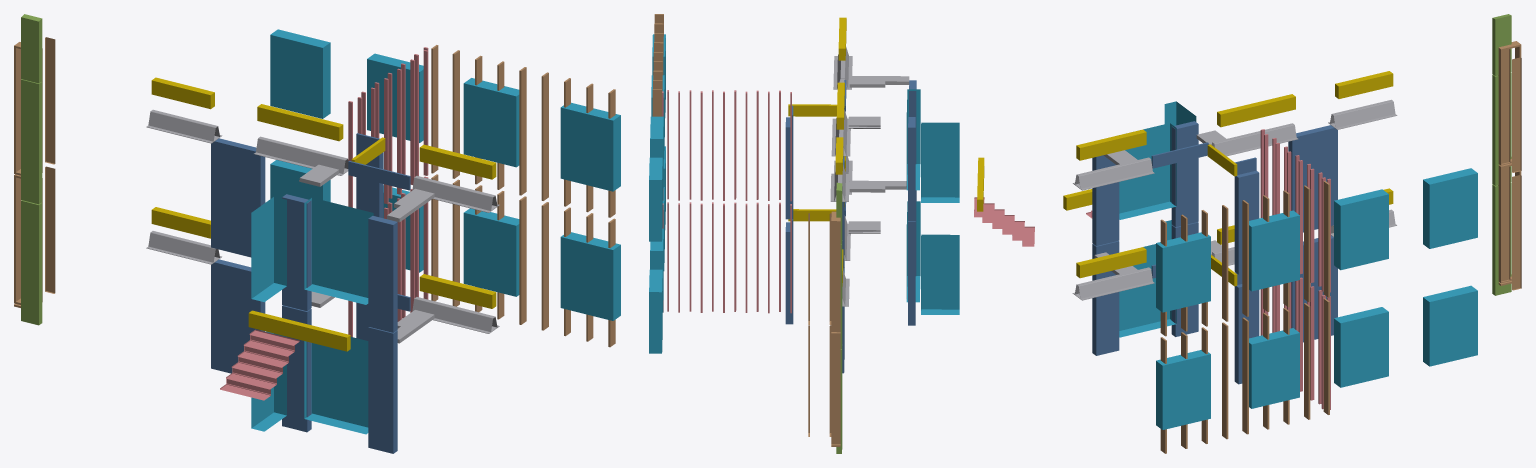
3 renders of one model, left to right at view 1: azimuth 30°, elevation 25°; view 2: azimuth 150°, elevation 25°; view 3: azimuth 270°, elevation 25°, orthographic. The views are drawn at different scales.
Bounding box in the file's own units: 11.28 × 7.8 × 11.71.
